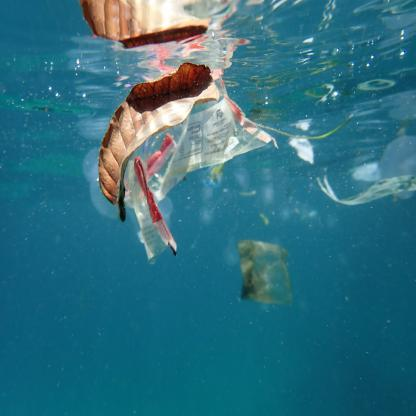plastic-bag: (128, 156, 184, 268)
waste: (99, 62, 220, 207), (80, 0, 214, 49), (239, 238, 294, 309)
